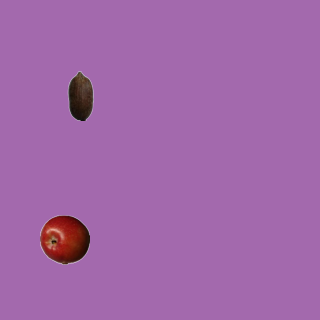Apple Braeburn: (39, 214, 89, 264)
Nut Pecan: (55, 70, 105, 120)
